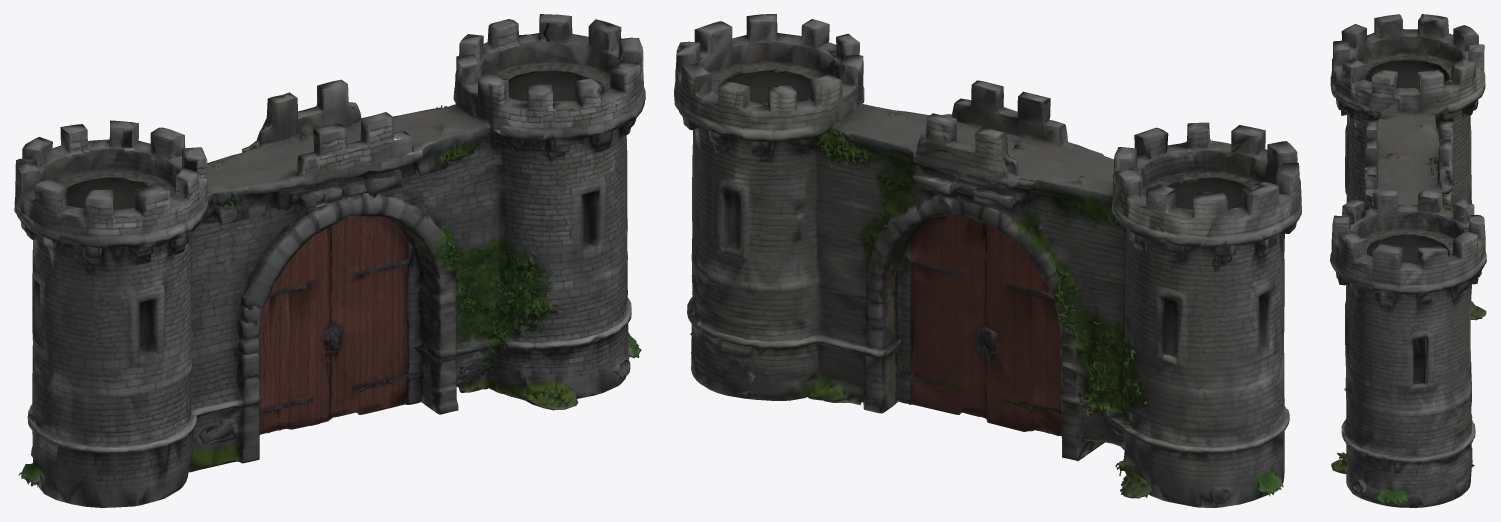
The model's file is fort_m_meadow_gate.glb.
3 views of the same model, side by side, from view 1: azimuth 30°, elevation 25°; view 2: azimuth 150°, elevation 25°; view 3: azimuth 270°, elevation 25° (orthographic). The views are drawn at different scales.
Visible parts, largest first — view 1: fort_m_meadow_gate; view 2: fort_m_meadow_gate; view 3: fort_m_meadow_gate.
Boxes of the visible parts, <box> form: fort_m_meadow_gate: <box>14,14,645,507</box>; fort_m_meadow_gate: <box>674,14,1301,507</box>; fort_m_meadow_gate: <box>1330,14,1486,507</box>.
Size of the model in its own units: 1.99 by 0.9972 by 0.5443.
Materials: 1 (1 with a texture image).
